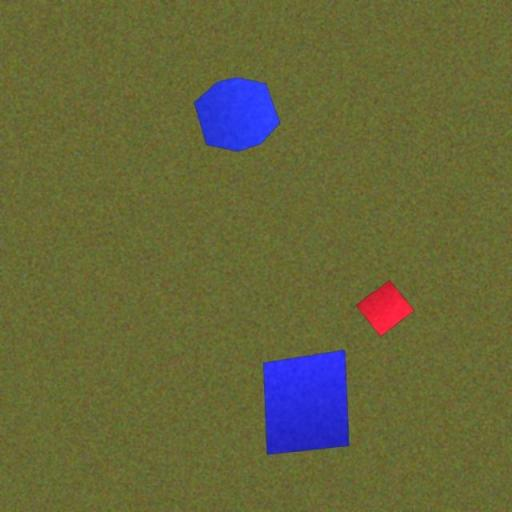BLUE_SQUARE: (262, 350, 350, 456)
RED_SQUARE: (355, 280, 415, 338)
